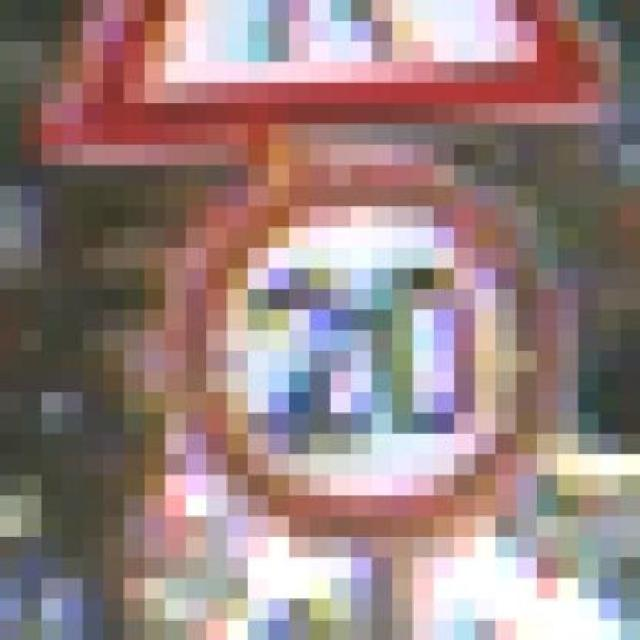forb_speed_over_20: (196, 170, 549, 527)
